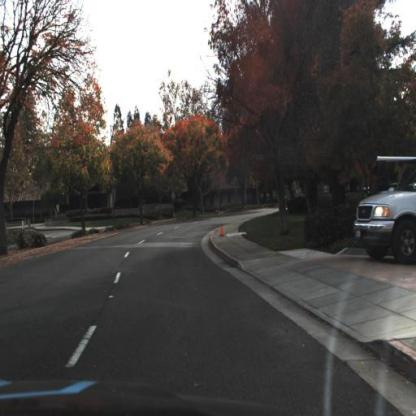truck: (355, 157, 416, 267)
